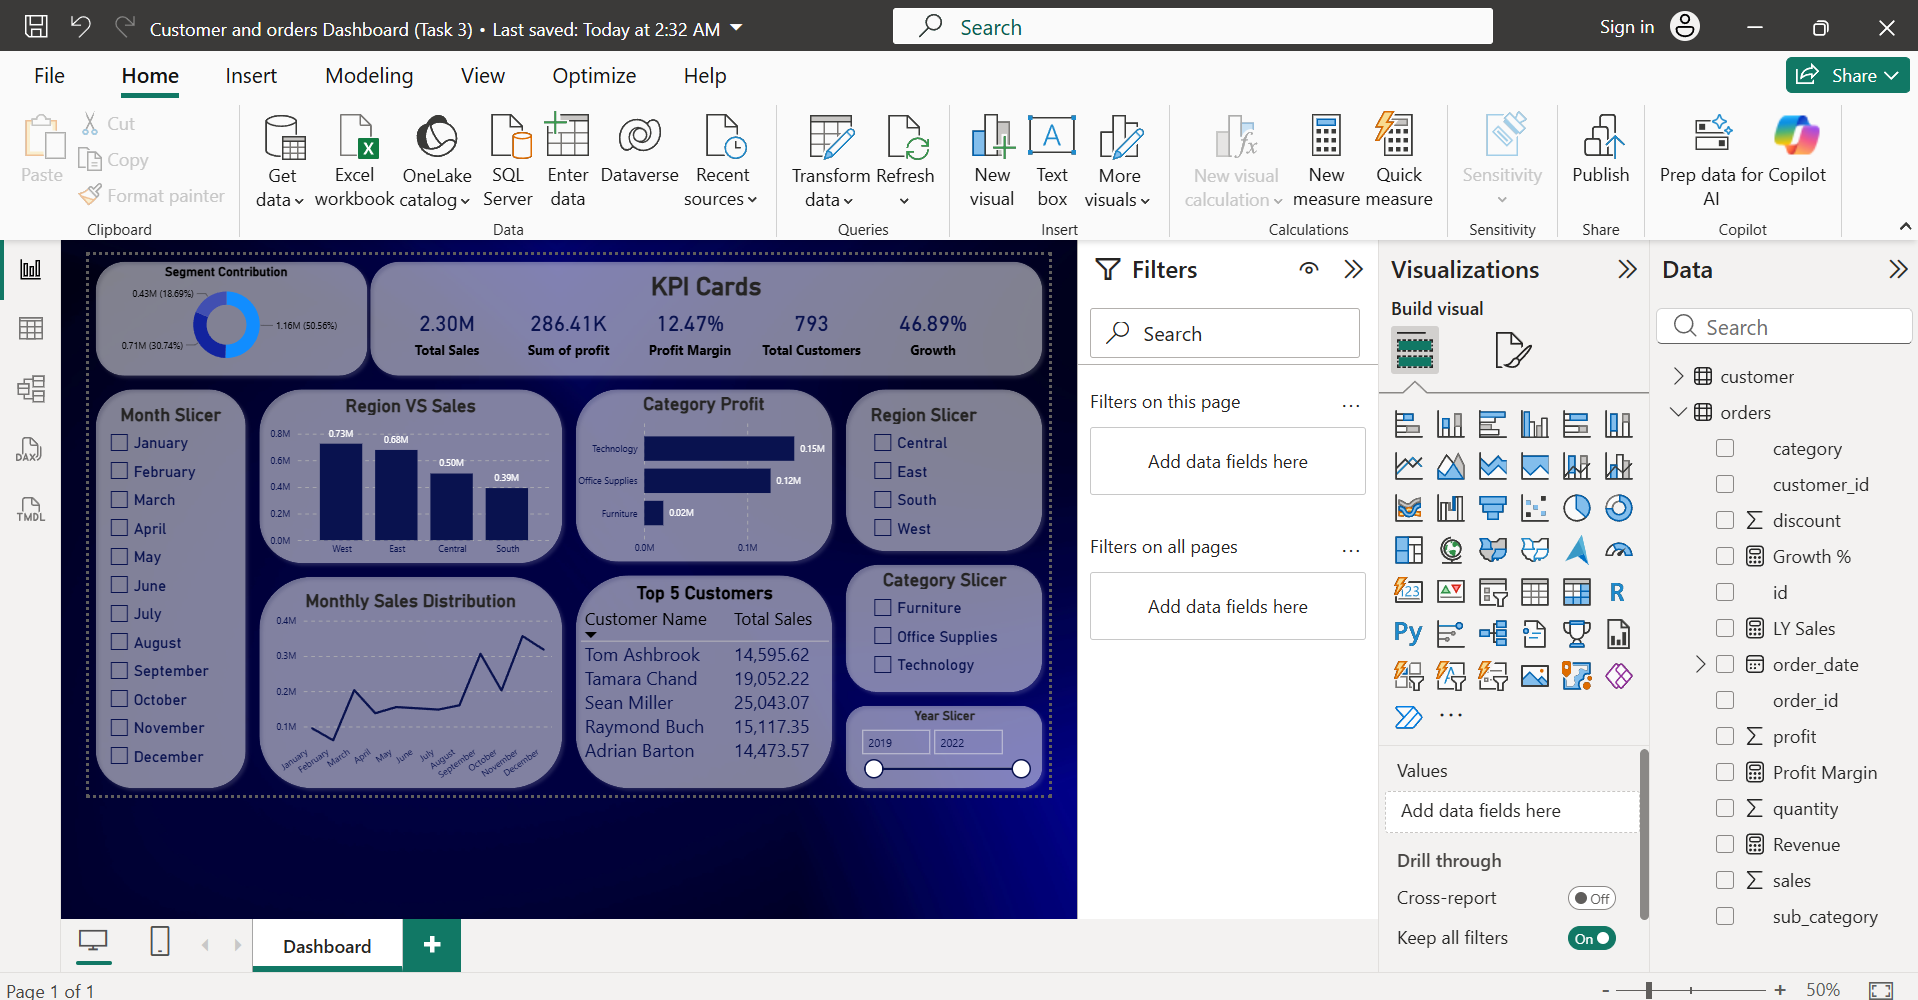

This screenshot's page, from the dashboard's own definition file:
{"tool":"powerbi","page":{"name":"Dashboard","canvas":[1280,720],"ordinal":0},"visuals":[{"type":"shape","box":[0,170,218,550],"z":0},{"type":"shape","box":[1000,592,280,128],"z":1000},{"type":"shape","box":[1000,170,280,234],"z":2000},{"type":"slicer","title":"Region Slicer","fields":{"Values":["customer.region"]},"box":[1034,198,158,206],"z":3000},{"type":"shape","box":[1000,404,280,188],"z":4000},{"type":"slicer","title":"Category Slicer","fields":{"Values":["orders.category"]},"box":[1034,418,214,200],"z":5000},{"type":"slicer","title":"Year Slicer","fields":{"Values":["orders.order_date.Variation.Date Hierarchy.Year"]},"box":[1018,604,246,104],"z":6000},{"type":"slicer","title":"Month Slicer","fields":{"Values":["orders.order_date.Variation.Date Hierarchy.Month"]},"box":[16,198,186,510],"z":7000},{"type":"shape","box":[0,0,380,170],"z":8000},{"type":"shape","box":[366,0,914,170],"z":9000},{"type":"donutChart","title":"Segment Contribution","fields":{"Category":["customer.segment"],"Y":["Sum(orders.sales)"]},"box":[0,12,366,142],"z":10000},{"type":"card","fields":{"Values":["Sum(orders.sales)"]},"box":[396,16,162,170],"z":11000},{"type":"card","fields":{"Values":["Sum(orders.profit)"]},"box":[558,16,162,170],"z":12000},{"type":"card","fields":{"Values":["orders.Profit Margin"]},"box":[720,16,162,170],"z":13000},{"type":"card","fields":{"Values":["Count(orders.customer_id)"]},"box":[882,16,162,170],"z":14000},{"type":"card","fields":{"Values":["orders.Growth %"]},"box":[1044,16,162,170],"z":15000},{"type":"textbox","box":[672,16,302,68],"z":16000},{"type":"shape","box":[218,170,422,250],"z":17000},{"type":"shape","box":[640,170,360,248],"z":18000},{"type":"shape","box":[218,420,422,300],"z":19000},{"type":"shape","box":[640,418,360,302],"z":20000},{"type":"lineChart","title":"Monthly Sales Distribution","fields":{"Category":["orders.order_date.Variation.Date Hierarchy.Month"],"Y":["Sum(orders.sales)"]},"box":[236,446,386,274],"z":21000},{"type":"columnChart","title":"Region VS Sales","fields":{"Category":["customer.region"],"Y":["Sum(orders.sales)"]},"box":[236,186,386,224],"z":22000},{"type":"tableEx","title":"Top 5 Customers","fields":{"Values":["customer.customer_name","Sum(orders.sales)"]},"box":[650,436,342,272],"z":23000},{"type":"barChart","title":"Category Profit","fields":{"Category":["orders.category"],"Y":["Sum(orders.profit)"]},"box":[640,184,360,224],"z":24000}]}

Visuals, with their boxes on the page's 1280x720 design canvas (x1, y1, x2, y2). These are canvas units, not pixel positions in the 1918x1000 screenshot, which may show the page scaled, cropped or inside an application window:
shape: bbox(0, 170, 218, 720)
shape: bbox(1000, 592, 1280, 720)
shape: bbox(1000, 170, 1280, 404)
"Region Slicer" slicer: bbox(1034, 198, 1192, 404)
shape: bbox(1000, 404, 1280, 592)
"Category Slicer" slicer: bbox(1034, 418, 1248, 618)
"Year Slicer" slicer: bbox(1018, 604, 1264, 708)
"Month Slicer" slicer: bbox(16, 198, 202, 708)
shape: bbox(0, 0, 380, 170)
shape: bbox(366, 0, 1280, 170)
"Segment Contribution" donutChart: bbox(0, 12, 366, 154)
card - Sum(orders.sales): bbox(396, 16, 558, 186)
card - Sum(orders.profit): bbox(558, 16, 720, 186)
card - orders.Profit Margin: bbox(720, 16, 882, 186)
card - Count(orders.customer_id): bbox(882, 16, 1044, 186)
card - orders.Growth %: bbox(1044, 16, 1206, 186)
textbox: bbox(672, 16, 974, 84)
shape: bbox(218, 170, 640, 420)
shape: bbox(640, 170, 1000, 418)
shape: bbox(218, 420, 640, 720)
shape: bbox(640, 418, 1000, 720)
"Monthly Sales Distribution" lineChart: bbox(236, 446, 622, 720)
"Region VS Sales" columnChart: bbox(236, 186, 622, 410)
"Top 5 Customers" tableEx: bbox(650, 436, 992, 708)
"Category Profit" barChart: bbox(640, 184, 1000, 408)
